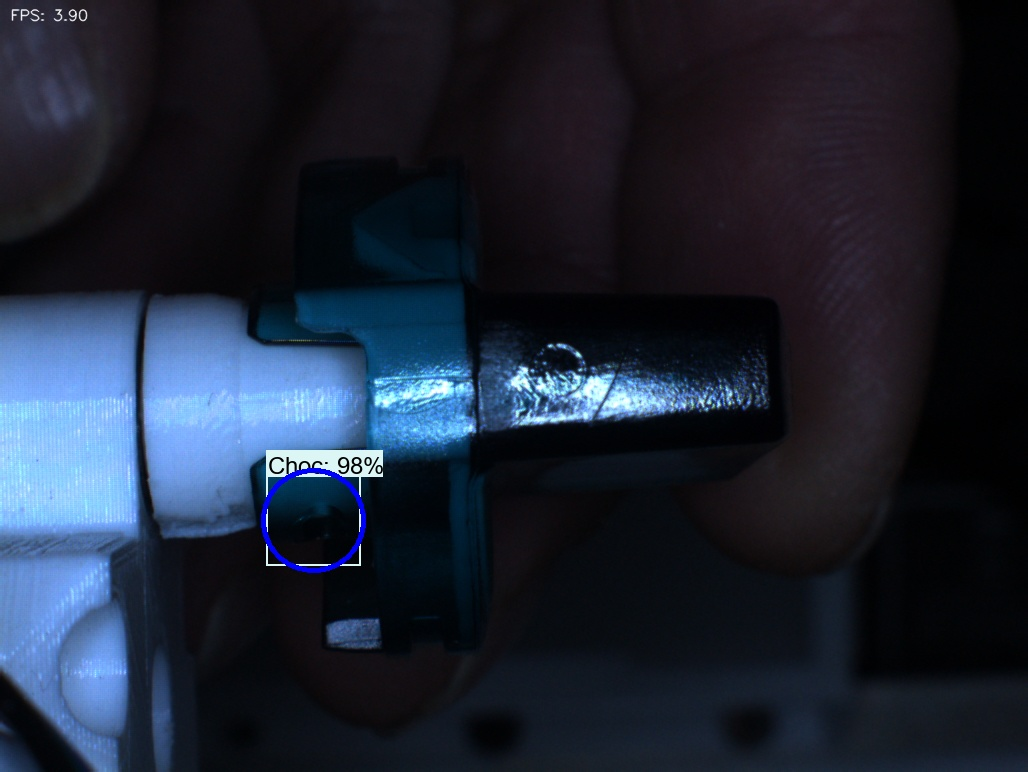DentOk: (325, 182, 403, 270)
